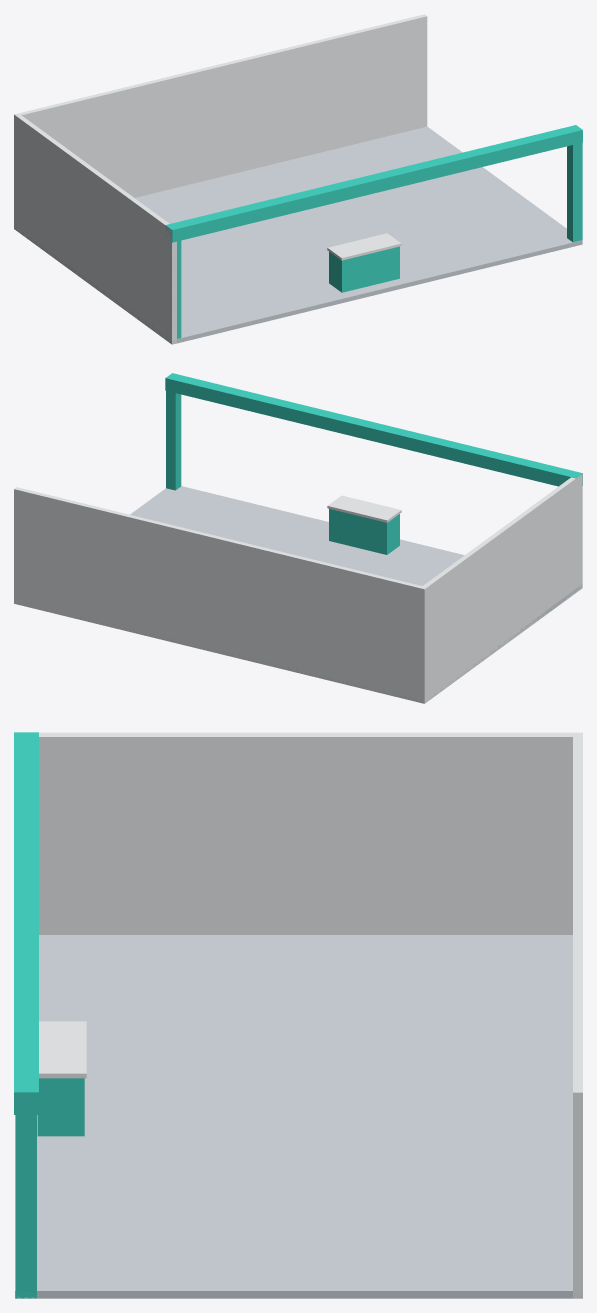
The picture shows the model from 3 angles, top to bottom: view 1: azimuth 30°, elevation 25°; view 2: azimuth 150°, elevation 25°; view 3: azimuth 270°, elevation 25°; orthographic projection. The views are drawn at different scales.
Visible parts, largest first — view 1: Exhibition Booth Concept; view 2: Exhibition Booth Concept; view 3: Exhibition Booth Concept.
Boxes of the visible parts, bbox=[...] form: Exhibition Booth Concept: bbox=[14, 14, 582, 344]; Exhibition Booth Concept: bbox=[14, 373, 582, 703]; Exhibition Booth Concept: bbox=[14, 732, 582, 1298].
Bounding box in the file's own units: 12 × 3.2 × 8.01.
